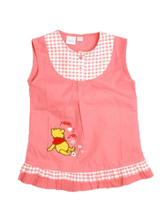clothoes: (25, 34, 156, 189)
